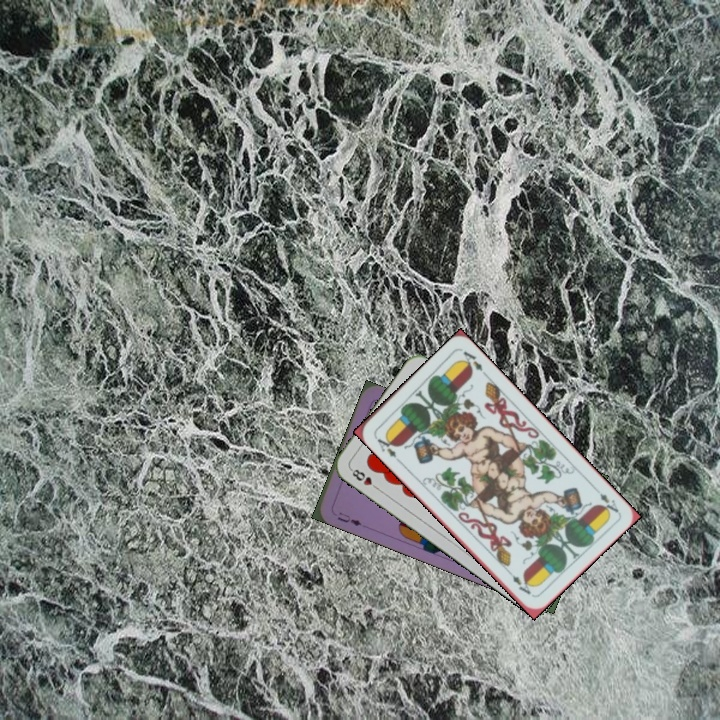EA: (590, 483, 621, 517), (370, 431, 399, 461)
EU: (333, 508, 364, 529)
H8: (346, 464, 382, 493)
